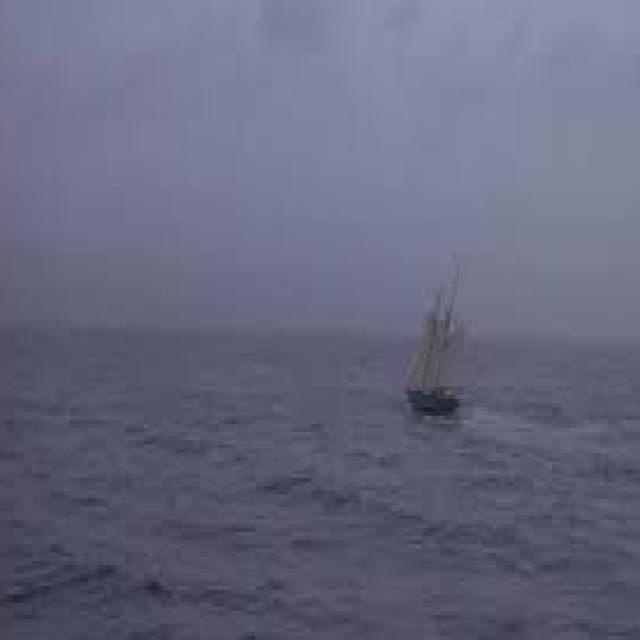fishing boat: (399, 276, 472, 422)
